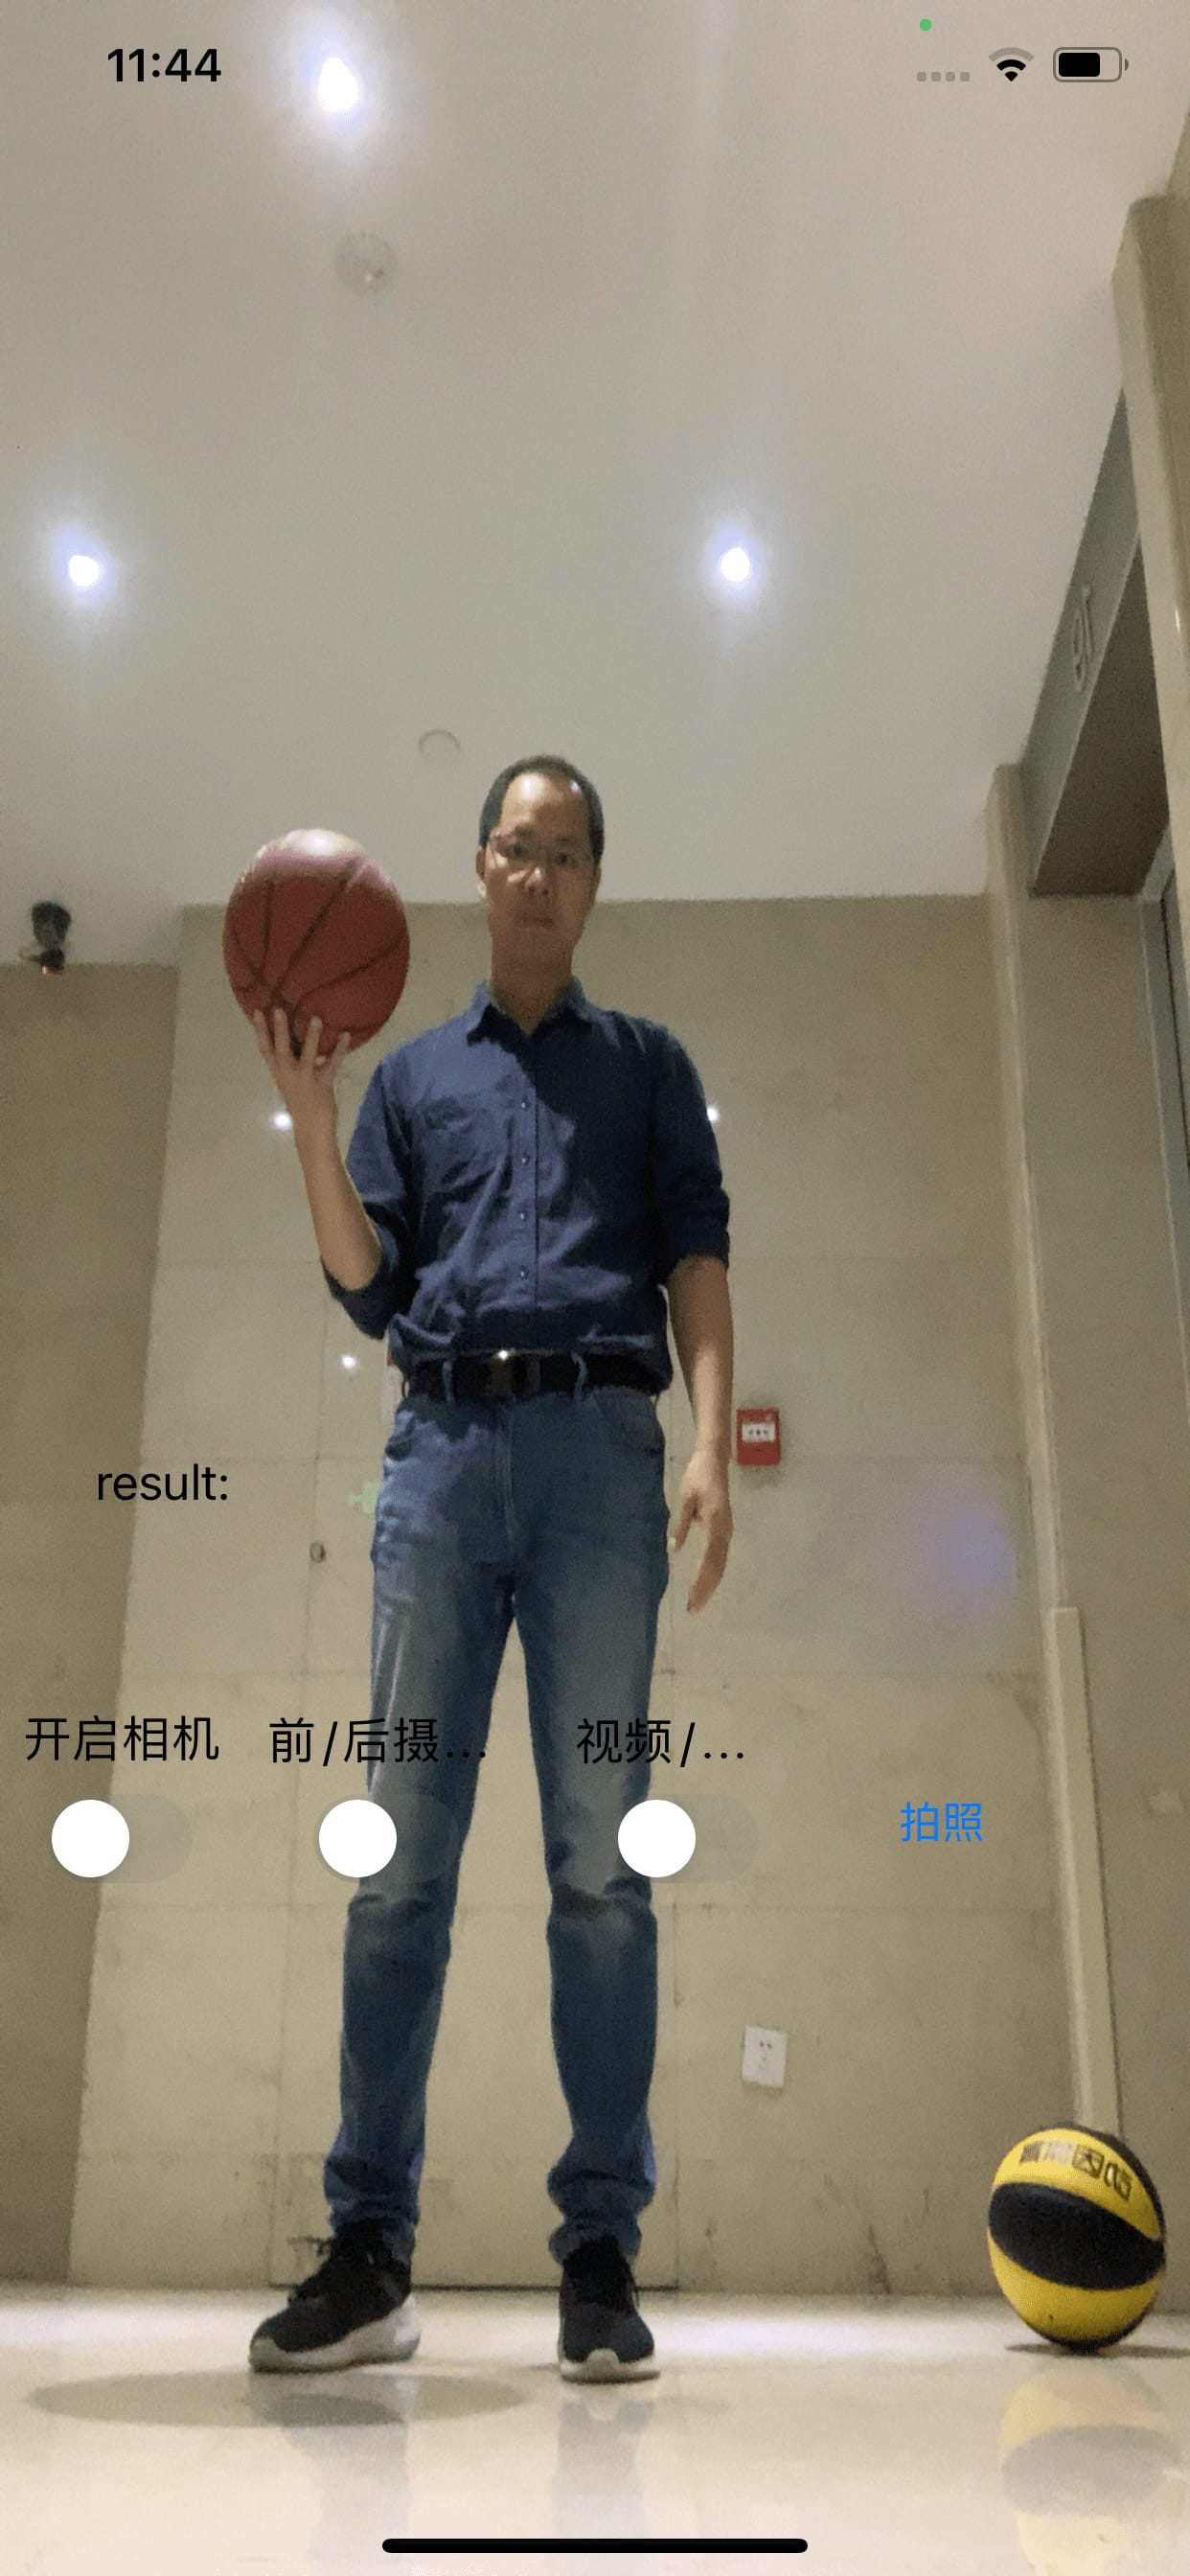ball: (219, 823, 406, 1066), (983, 2123, 1164, 2353)
